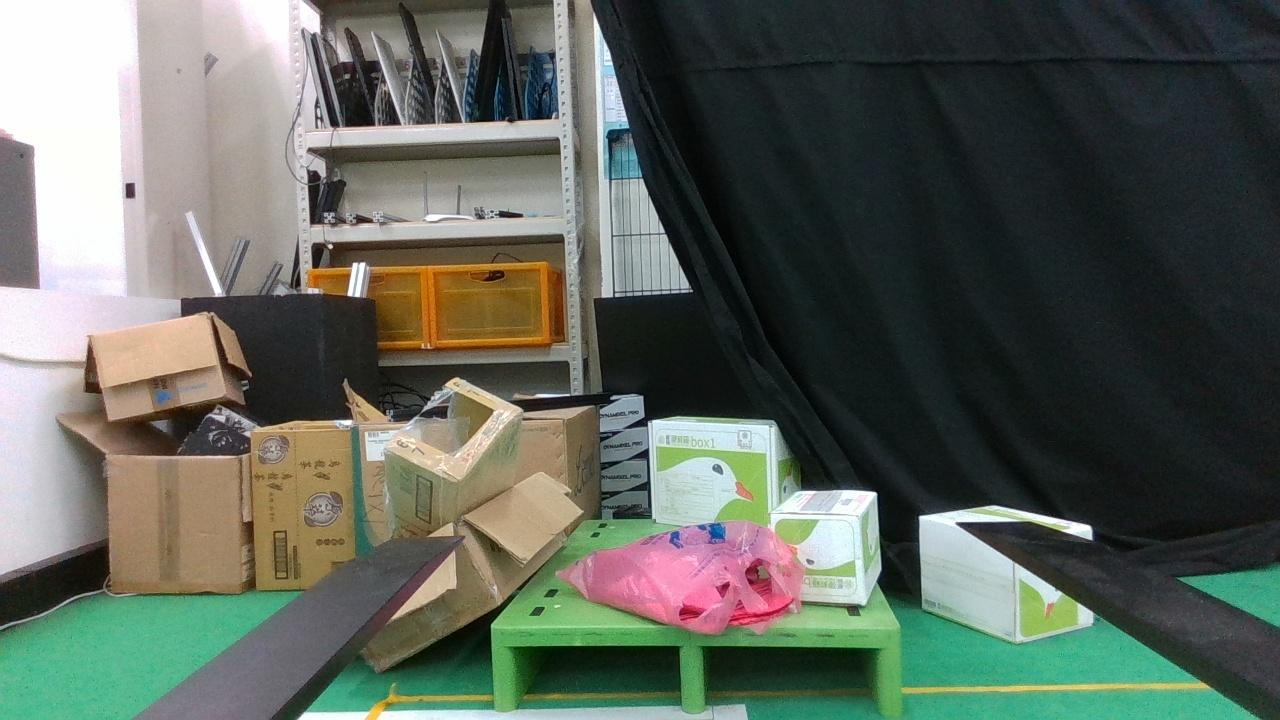Pallet: (489, 626, 908, 720)
